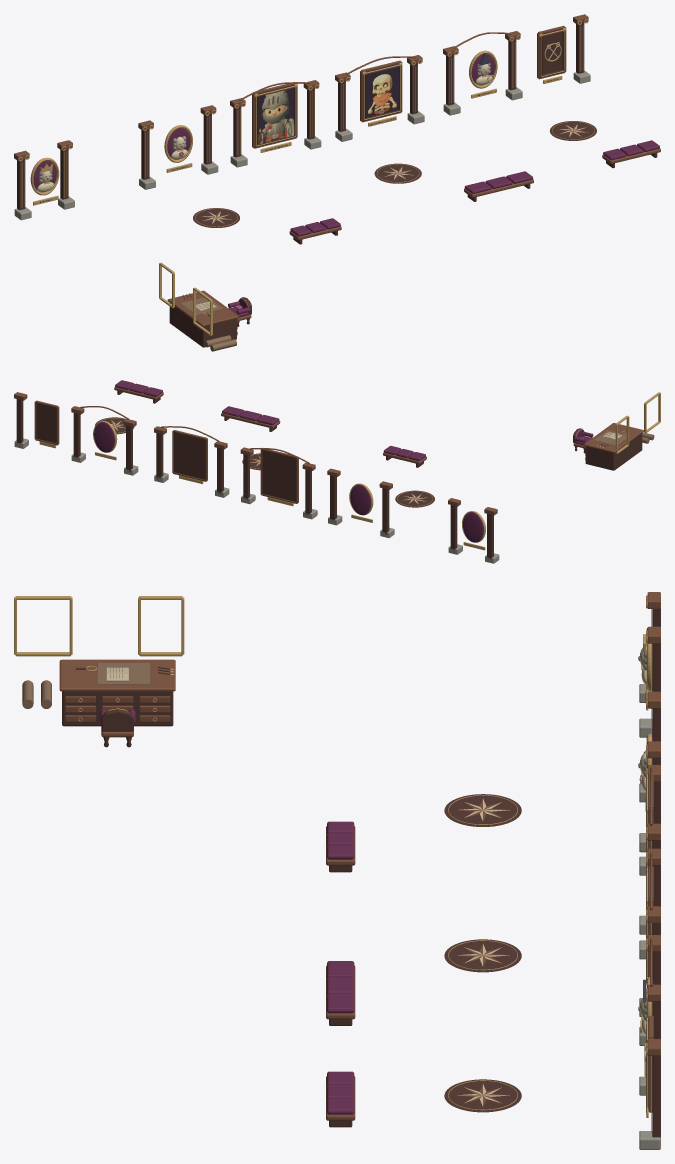
File: gallery.glb
3 renders of one model, top to bottom at view 1: azimuth 30°, elevation 25°; view 2: azimuth 150°, elevation 25°; view 3: azimuth 270°, elevation 25°, orthographic. The views are drawn at different scales.
Parts seen in each view (by area): view 1: Crafted assembly 009, Crafted assembly 001, Crafted assembly 013, Crafted assembly 005, Crafted assembly 020, Crafted assembly 002, Crafted assembly 017, Crafted assembly 022, Crafted assembly 015, Crafted assembly 010, Crafted assembly 011, Crafted assembly 014 (+10 smaller); view 2: Crafted assembly 009, Crafted assembly 001, Crafted assembly 005, Crafted assembly 013, Crafted assembly 017, Crafted assembly 030, Crafted assembly 015, Crafted assembly 011, Crafted assembly 003, Crafted assembly 026, Crafted assembly 002, Crafted assembly 023 (+6 smaller); view 3: Crafted assembly 003, Crafted assembly 001, Crafted assembly 013, Crafted assembly 005, Crafted assembly 009, Crafted assembly 002, Crafted assembly 015, Crafted assembly 030, Crafted assembly 041, Crafted assembly 011, Crafted assembly 007, Crafted assembly 026 (+1 smaller).
Boxes of the visible parts, box(x1,y1,x2,y2) form: Crafted assembly 009: box(254, 63, 476, 201); Crafted assembly 001: box(17, 148, 251, 347); Crafted assembly 013: box(410, 36, 614, 188); Crafted assembly 005: box(141, 106, 337, 244); Crafted assembly 020: box(258, 88, 294, 144); Crafted assembly 002: box(18, 144, 248, 335); Crafted assembly 017: box(539, 23, 657, 157); Crafted assembly 022: box(366, 67, 398, 117); Crafted assembly 015: box(401, 31, 660, 197); Crafted assembly 010: box(254, 62, 419, 182); Crafted assembly 011: box(239, 56, 415, 179); Crafted assembly 014: box(411, 33, 594, 139); Crafted assembly 009: box(174, 426, 296, 501); Crafted assembly 001: box(450, 428, 642, 559); Crafted assembly 005: box(305, 456, 434, 534); Crafted assembly 013: box(73, 397, 229, 478); Crafted assembly 017: box(16, 391, 122, 443); Crafted assembly 030: box(94, 383, 261, 452); Crafted assembly 015: box(56, 387, 280, 472); Crafted assembly 011: box(161, 426, 309, 503); Crafted assembly 003: box(448, 423, 643, 515); Crafted assembly 026: box(350, 446, 425, 515); Crafted assembly 002: box(462, 392, 660, 550); Crafted assembly 023: box(463, 429, 593, 542); Crafted assembly 003: box(59, 592, 660, 737); Crafted assembly 001: box(62, 608, 660, 747); Crafted assembly 013: box(329, 922, 660, 1112); Crafted assembly 005: box(329, 708, 660, 872); Crafted assembly 009: box(444, 776, 660, 976); Crafted assembly 002: box(14, 595, 652, 721); Crafted assembly 015: box(326, 899, 660, 1120); Crafted assembly 030: box(327, 977, 653, 1099); Crafted assembly 041: box(22, 663, 150, 708); Crafted assembly 011: box(457, 767, 660, 966); Crafted assembly 007: box(326, 691, 660, 865); Crafted assembly 026: box(327, 735, 653, 859).
Size of what is drawn, in the model's own units: 34.93 by 4.14 by 20.9.
13 materials, 2 textured.
